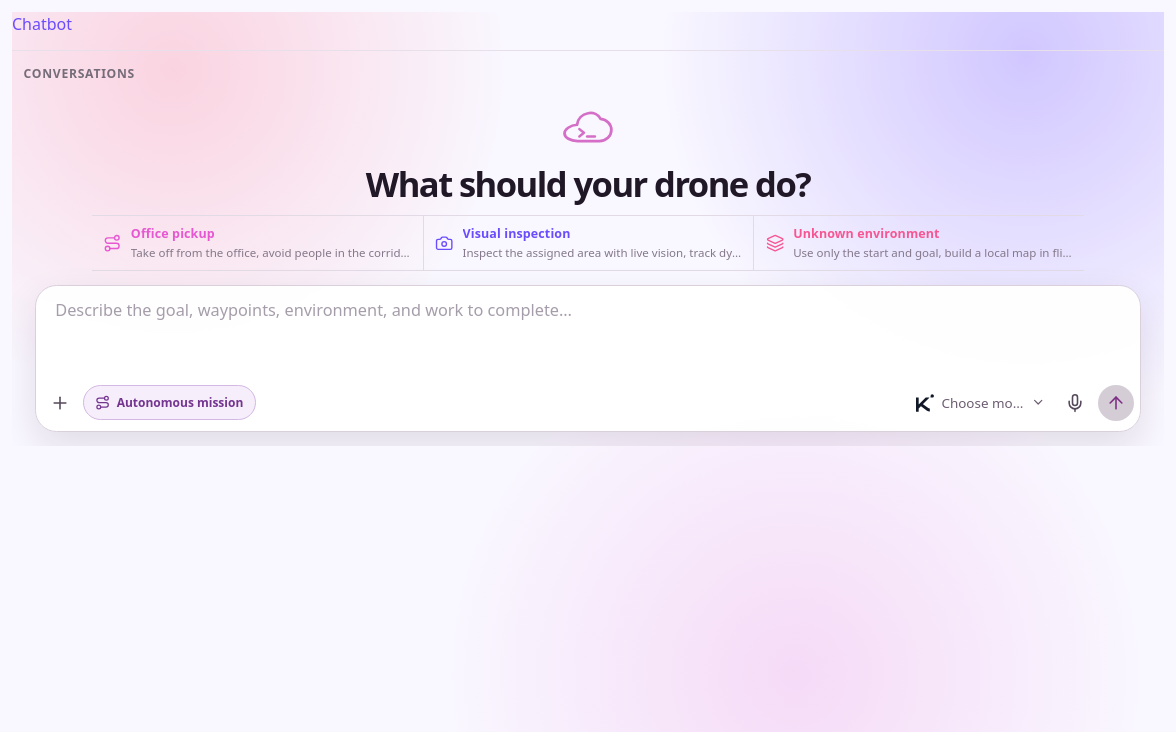
Test: Chatbot to independent conversation › uses one-line cascading mission context menus without duplicate asset links
This screenshot has width=1176, height=732.
Click the button named "Mission context" at (60, 403), box [42, 385, 78, 421]
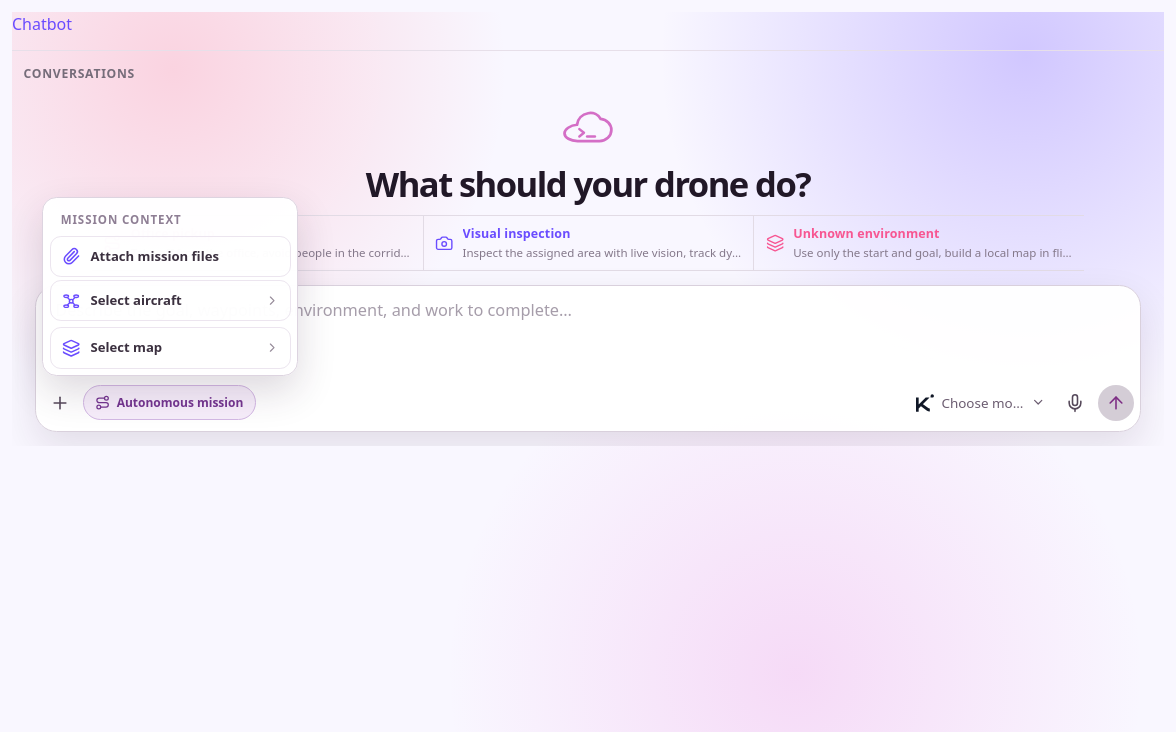
Check: the menu item "Attach mission files" is shown, box [50, 236, 291, 277]
Check: the text "Select aircraft" is shown once, box [90, 291, 182, 309]
Hover over the element showing "Select aircraft" at (170, 301), box [50, 280, 291, 322]
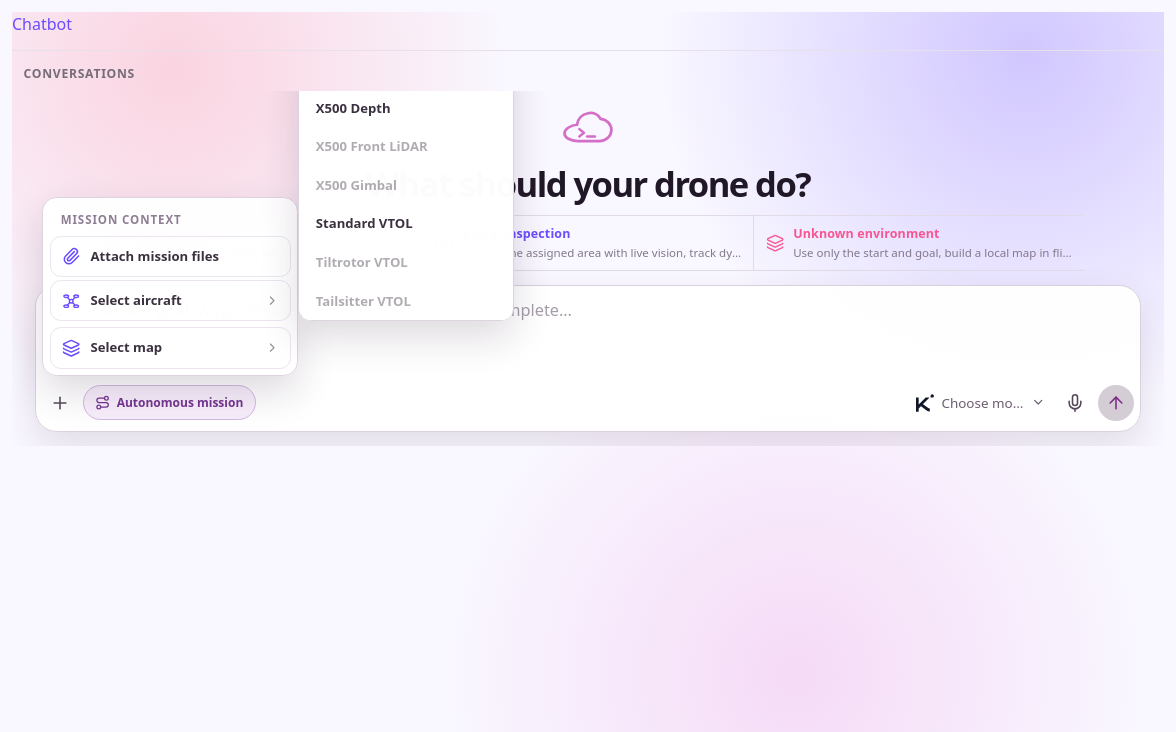
Check: the menu item "X500 Depth" is shown
Click the menu item "X500 Depth" at (406, 109), box [305, 91, 507, 127]
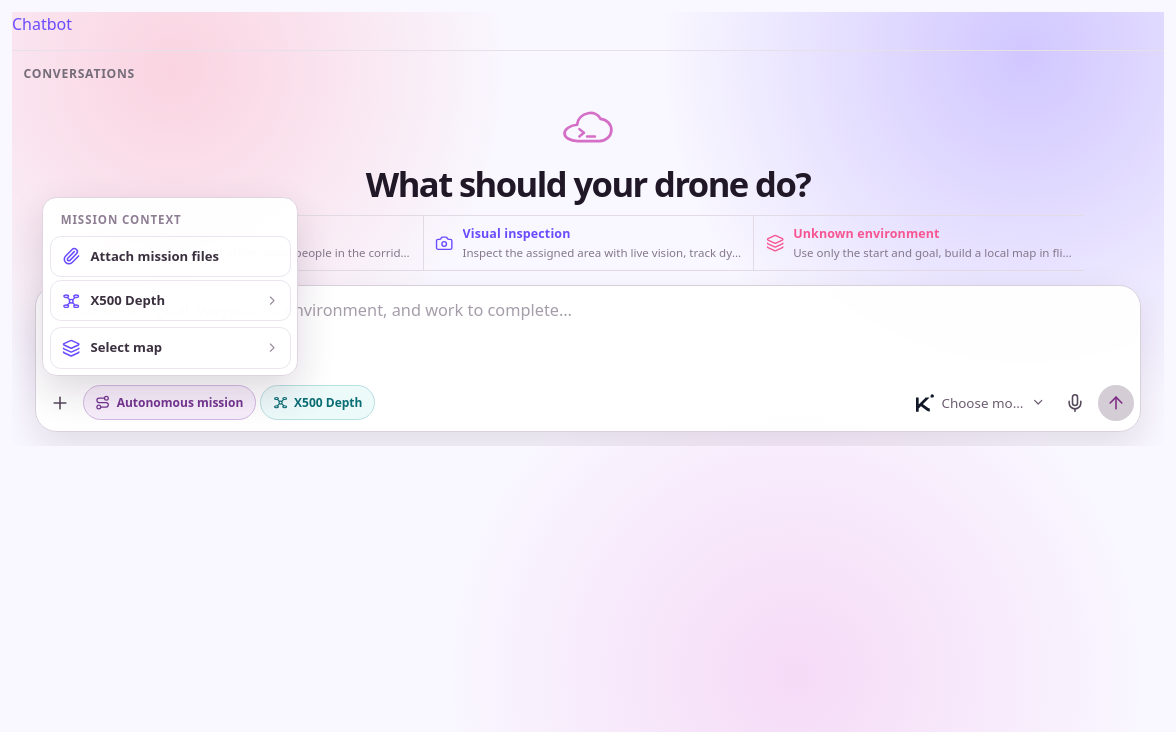
Check: the menu item "X500 Depth" is shown, box [50, 280, 291, 322]
Hover over the element showing "Select map" at (170, 348), box [50, 327, 291, 369]
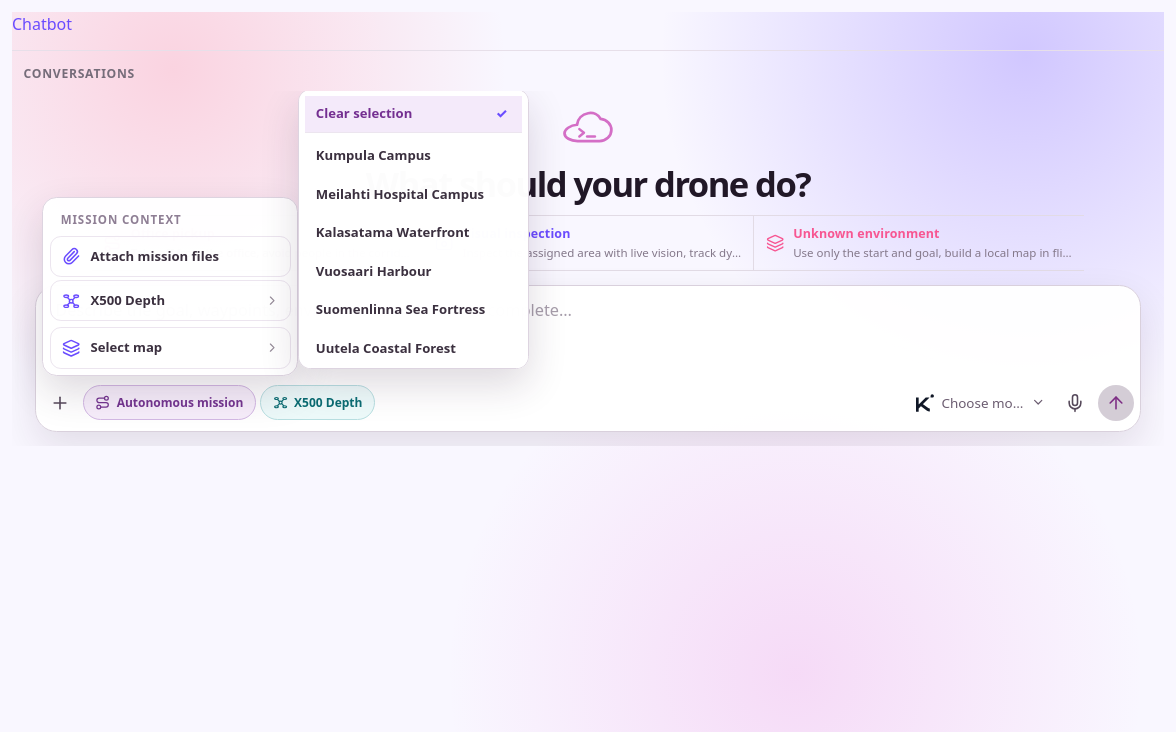
Click the menu item "Kumpula Campus" at (414, 156), box [305, 138, 522, 174]
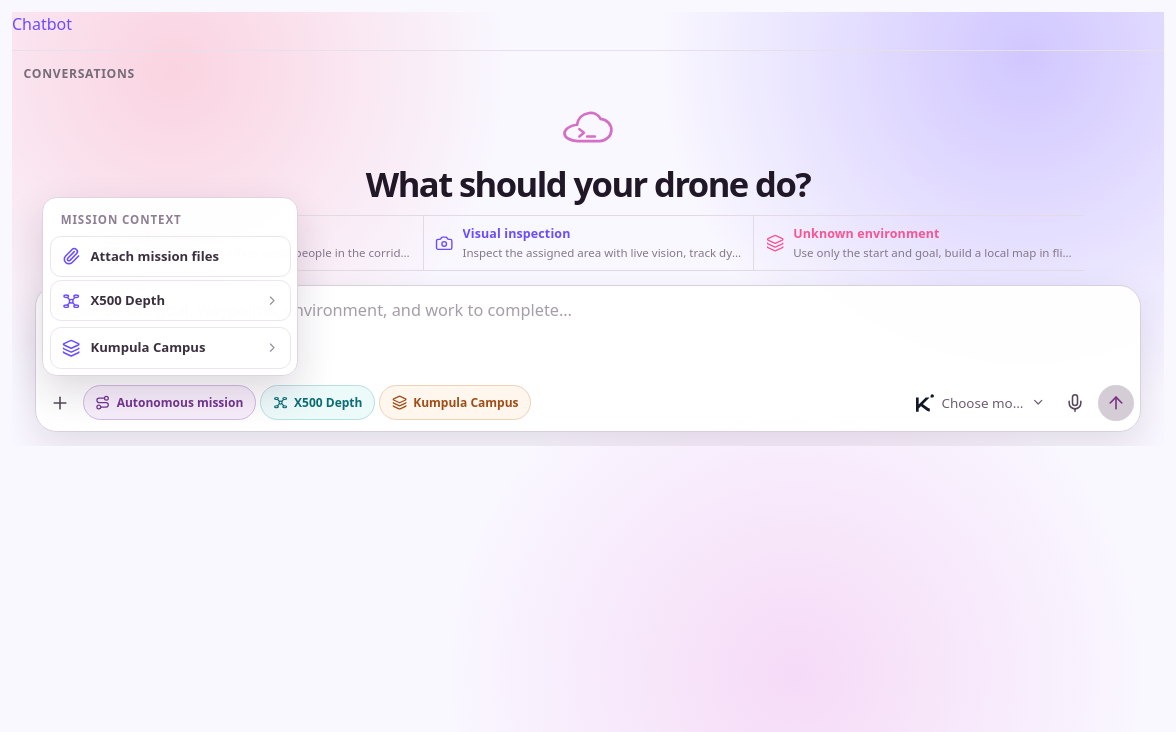
Check: the menu item "Select aircraft" is not shown
Check: the menu item "Kumpula Campus" is shown, box [50, 327, 291, 369]
Check: the menu item "Select map" is gone
